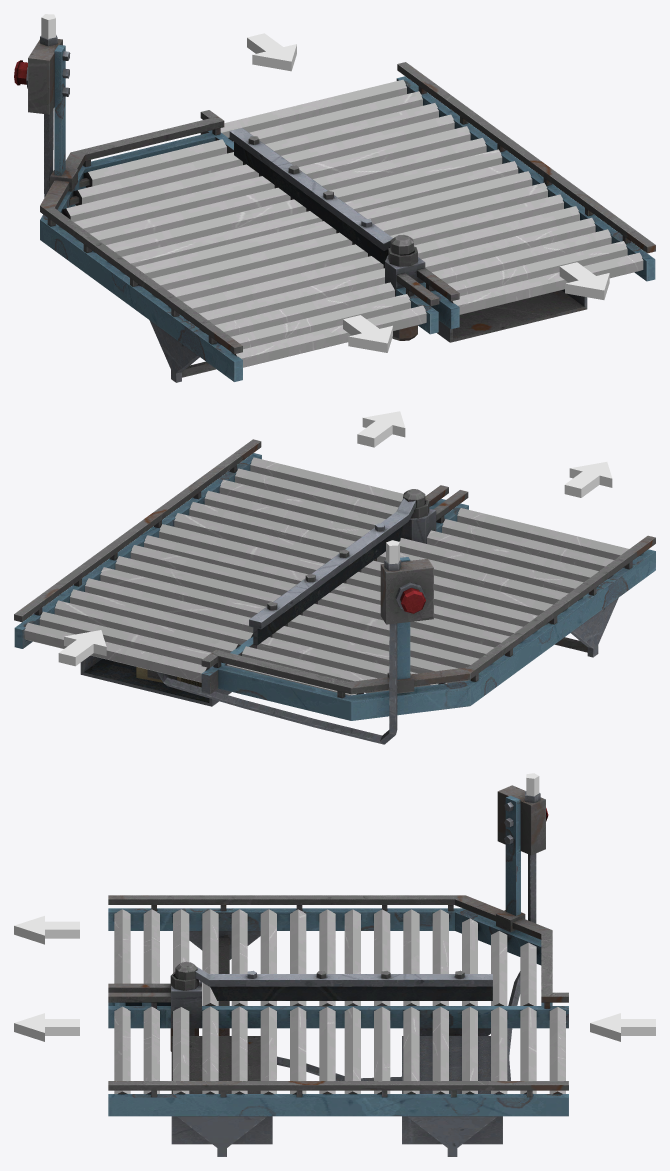
The model's file is RollerConveyorRouting_Right.glb.
3 views of the same model, one above another, from view 1: azimuth 30°, elevation 25°; view 2: azimuth 150°, elevation 25°; view 3: azimuth 270°, elevation 25° (orthographic). The views are drawn at different scales.
Parts seen in each view (by area): view 1: RollerRoutingRight, RollerRoutingRight_Wiper, ghostarrow, ghostarrow (2), ghostarrow (1); view 2: RollerRoutingRight, RollerRoutingRight_Wiper, ghostarrow, ghostarrow (2), ghostarrow (1), RollerRoutingRightButton; view 3: RollerRoutingRight, RollerRoutingRight_Wiper, ghostarrow (2), ghostarrow (1), ghostarrow.
Part boxes in pixels (x1=…): RollerRoutingRight: x1=26, y1=14, x2=655, y2=382; RollerRoutingRight_Wiper: x1=229, y1=128, x2=413, y2=264; ghostarrow: x1=559, y1=262, x2=609, y2=299; ghostarrow (2): x1=343, y1=315, x2=392, y2=352; ghostarrow (1): x1=247, y1=33, x2=296, y2=71; RollerRoutingRight: x1=14, y1=439, x2=655, y2=744; RollerRoutingRight_Wiper: x1=249, y1=489, x2=425, y2=645; ghostarrow: x1=357, y1=411, x2=405, y2=447; ghostarrow (2): x1=564, y1=462, x2=612, y2=497; ghostarrow (1): x1=58, y1=630, x2=106, y2=666; RollerRoutingRightButton: x1=400, y1=588, x2=425, y2=613; RollerRoutingRight: x1=108, y1=773, x2=568, y2=1156; RollerRoutingRight_Wiper: x1=175, y1=961, x2=492, y2=1000; ghostarrow (2): x1=14, y1=916, x2=79, y2=944; ghostarrow (1): x1=590, y1=1013, x2=655, y2=1041; ghostarrow: x1=14, y1=1013, x2=79, y2=1041.
Bounding box in the file's own units: 1.95 × 1.03 × 2.79.
Materials: 5 (2 with a texture image).
